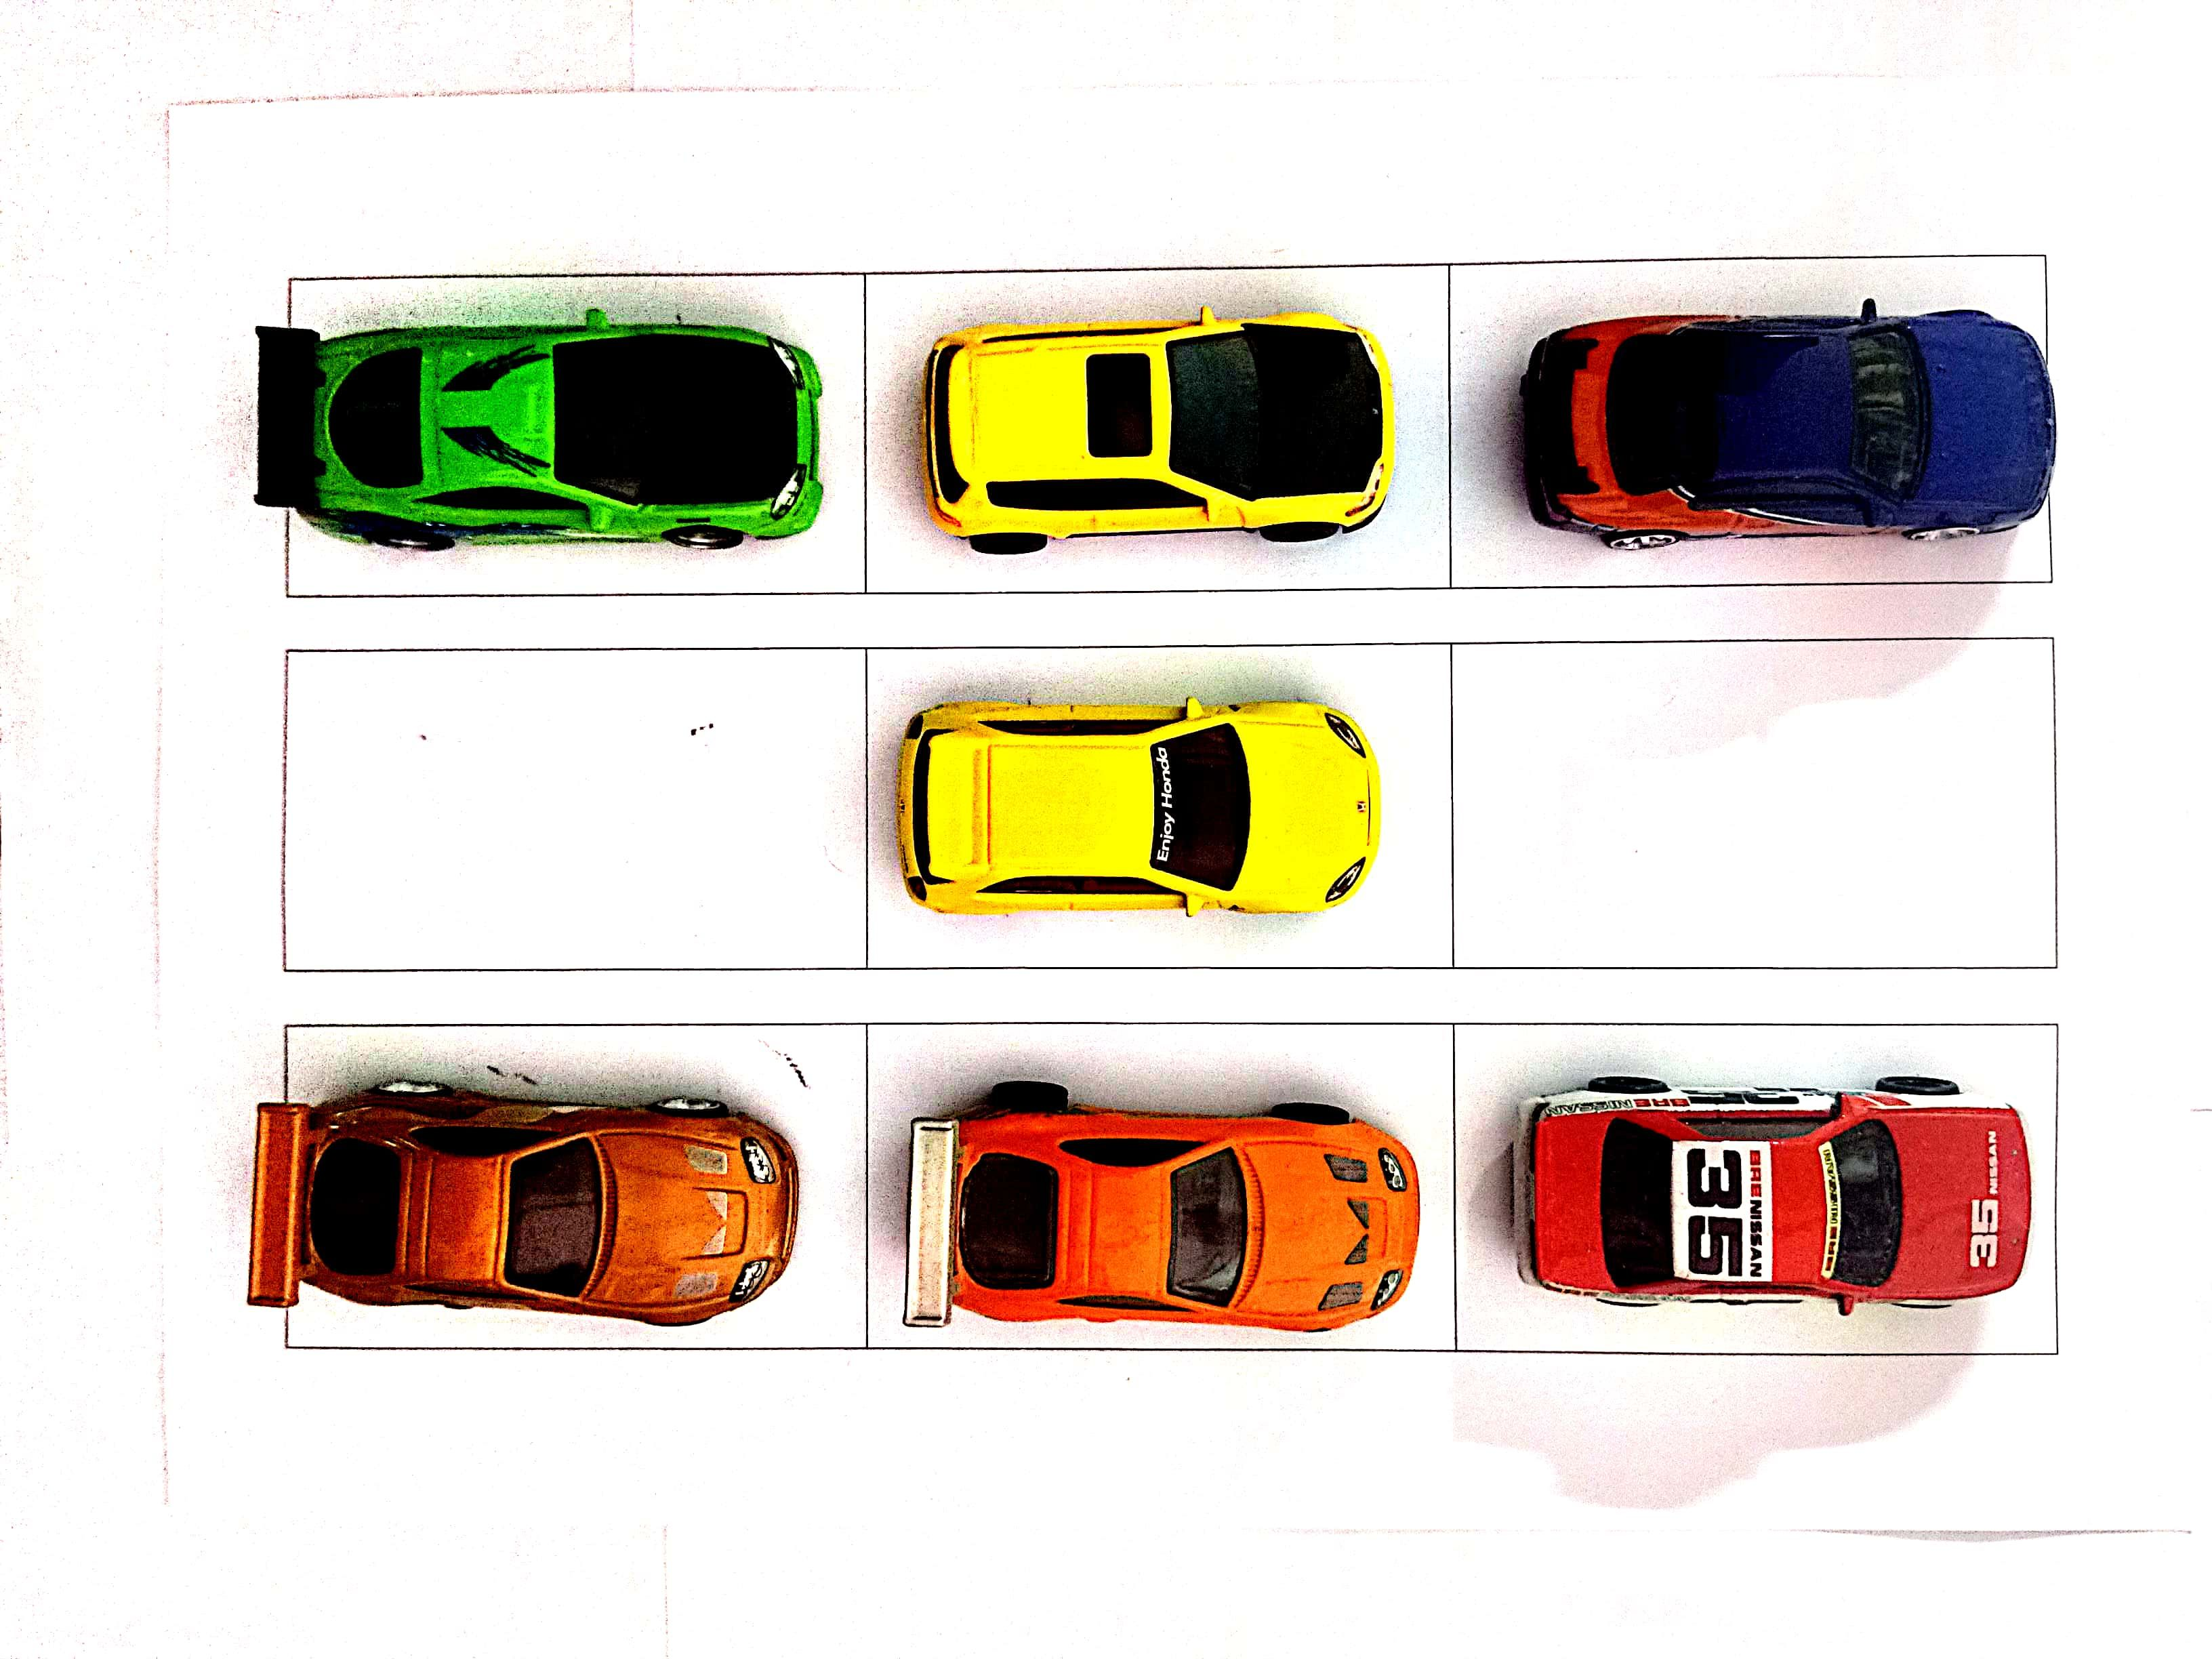Busy: (1458, 1028, 2055, 1351), (862, 641, 1454, 964), (287, 1028, 866, 1354), (1451, 263, 2045, 580), (862, 1026, 1449, 1345), (866, 270, 1446, 586), (294, 275, 860, 593)
Free: (1460, 640, 2050, 962), (287, 650, 862, 967)
